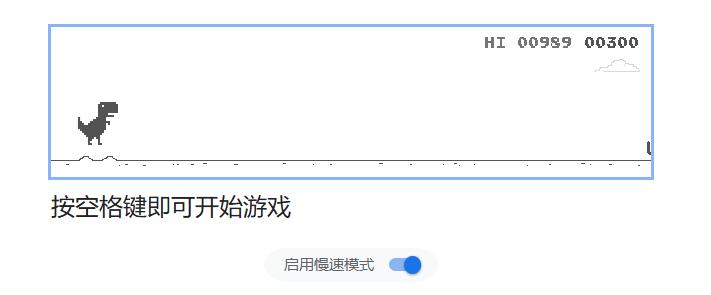dino: (75, 100, 118, 146)
